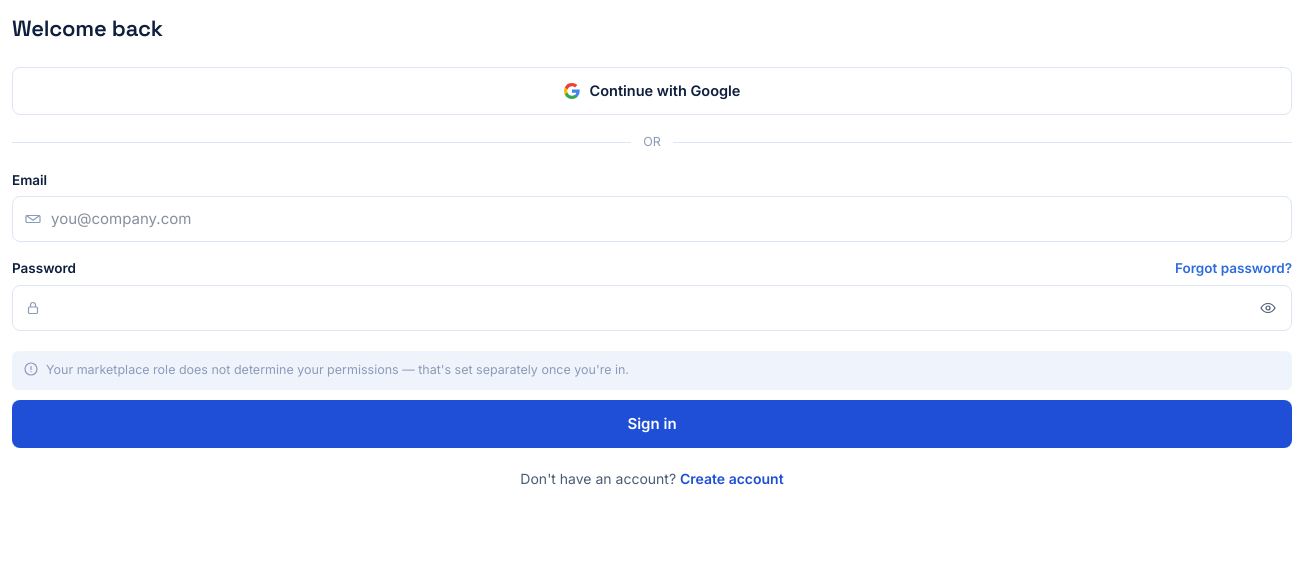
it: Sign-in edge cases › Clerk network failure → error on Sign-in, never the not-registered notice
Type "a@example.com" into the field labelled "Email". click: (652, 219)
box: x1=12 y1=196 x2=1292 y2=242
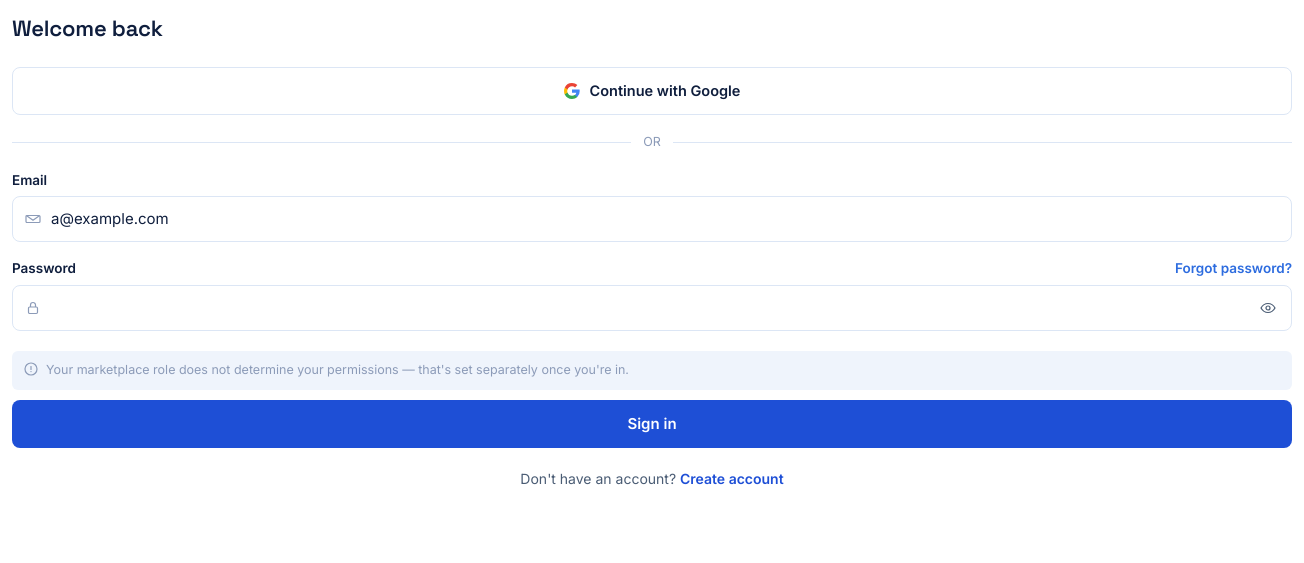
Type "correct-horse" into the password field labelled "Password". click: (652, 308)
box: x1=12 y1=284 x2=1292 y2=331
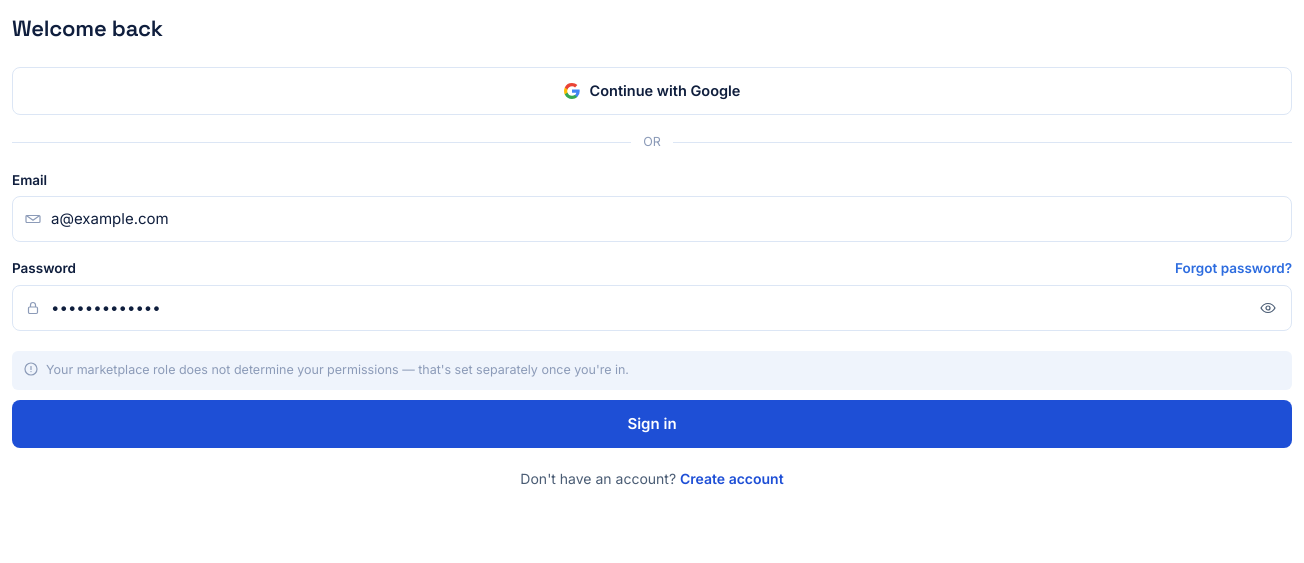
Click the button "Sign in". click: (652, 424)
box: x1=12 y1=400 x2=1292 y2=448
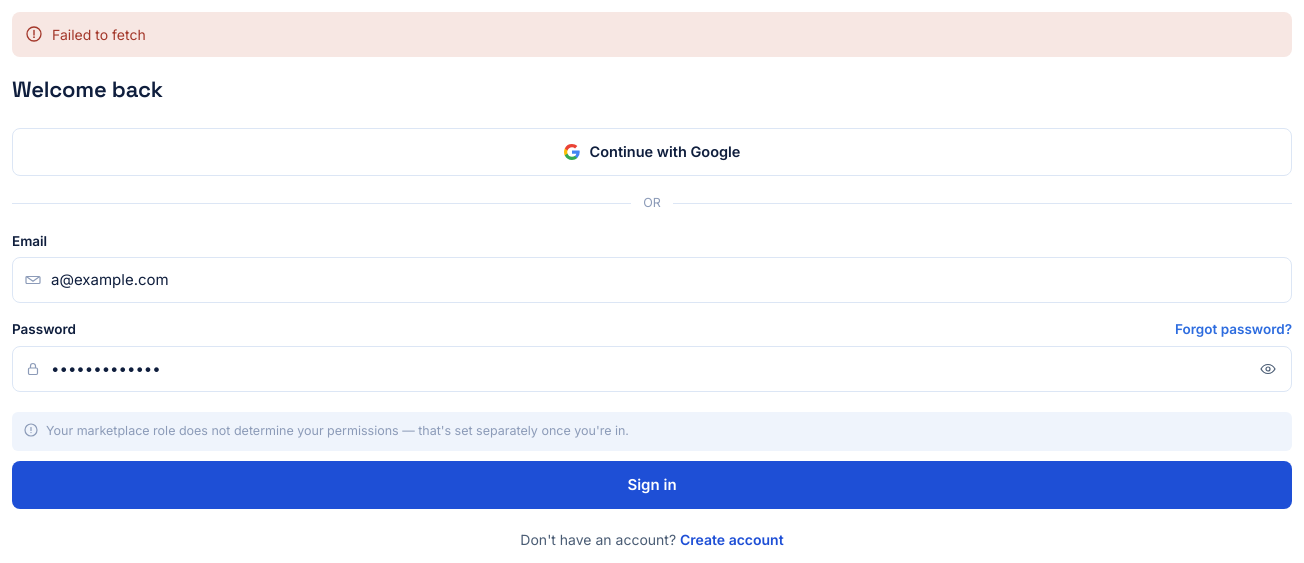
Check: the text "Failed to fetch" is shown, box x1=52 y1=24 x2=146 y2=45
